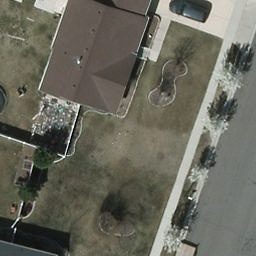car: (168, 0, 210, 24)
